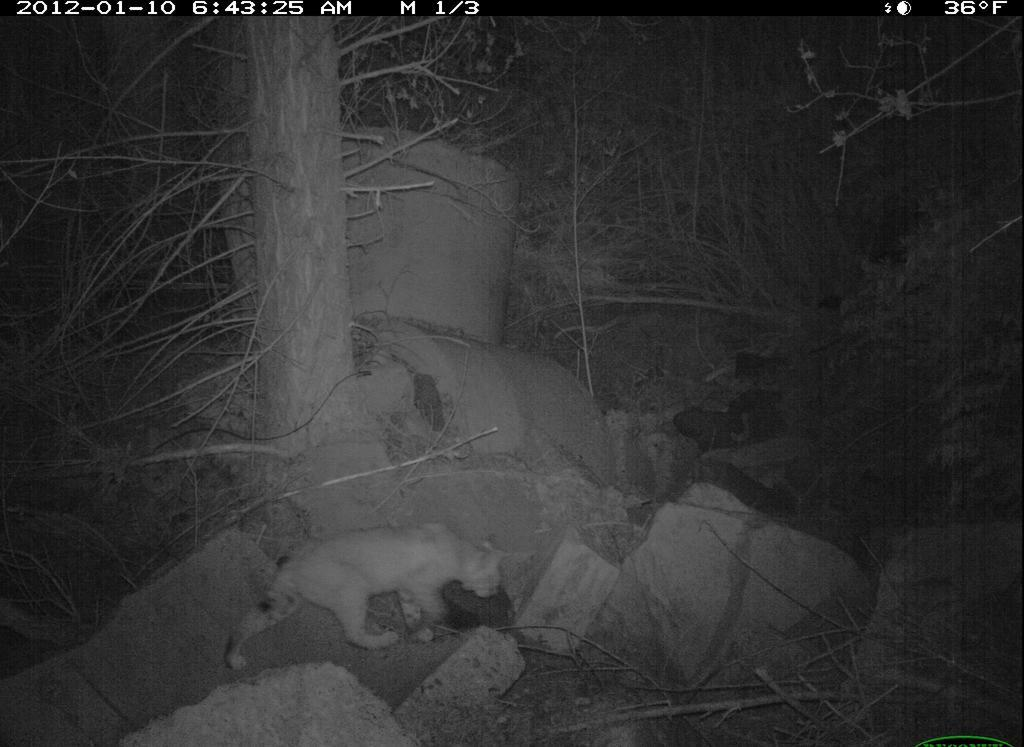bobcat: (214, 524, 511, 680)
